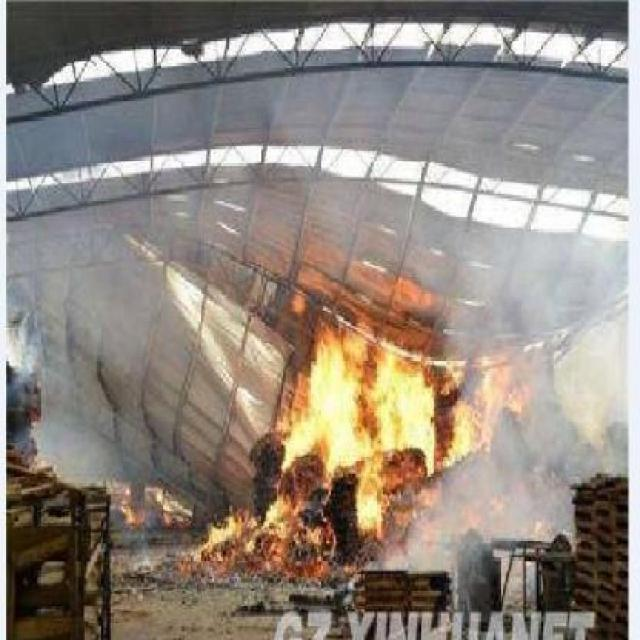Fire: (177, 294, 534, 584)
